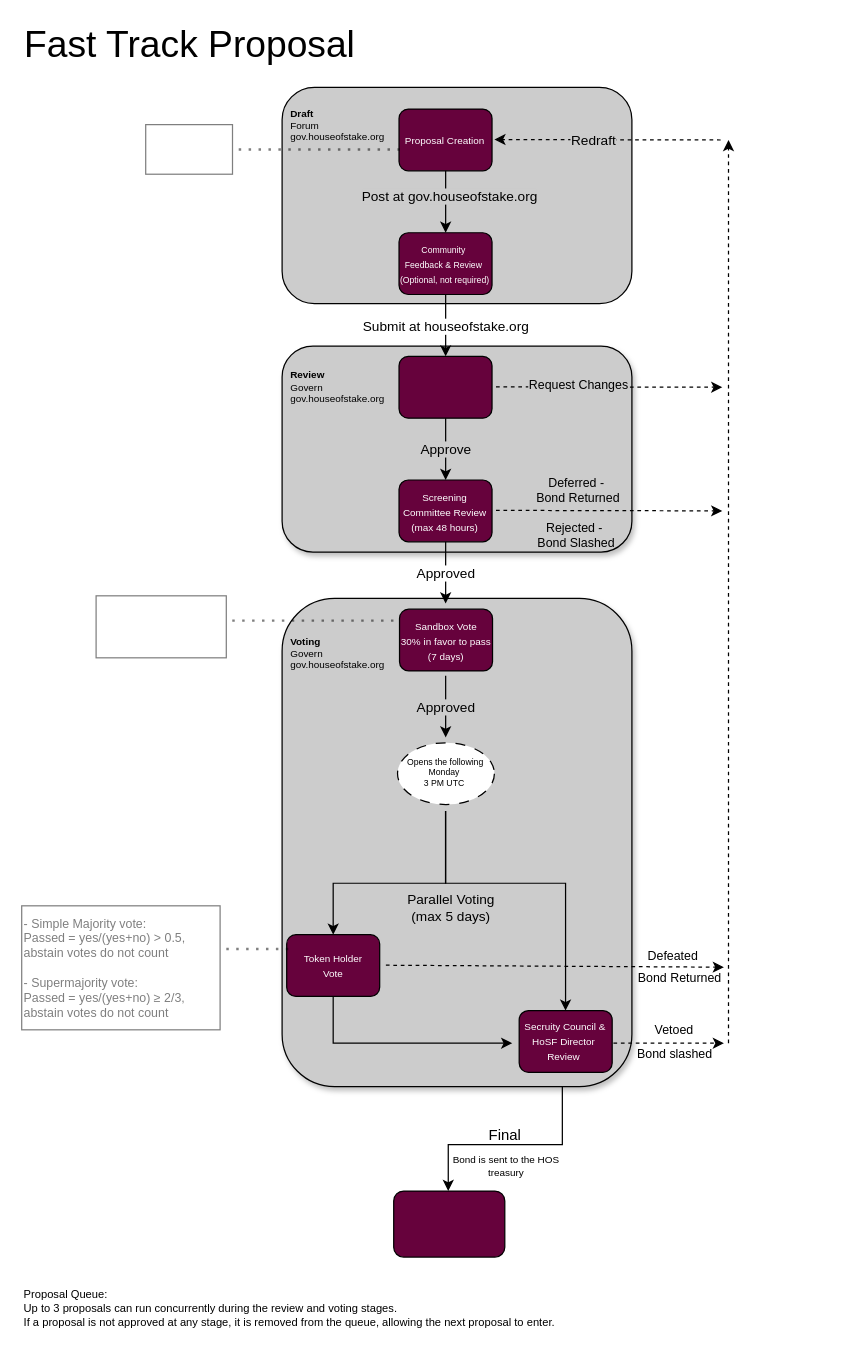
The diagram is 862 pixels wide and 1349 high, and some of its shapes have lost their labels. The shapes that lost their labels are listed below. From the top down, each one's centre as x and y in pixels, then its label:
(x=188, y=148): 100 NEAR Bond Required
(x=445, y=386): HSP Editor Review (max 48 hours)
(x=160, y=626): Favor votes are passed over to Holder votes if passed
(x=448, y=1223): Execution
